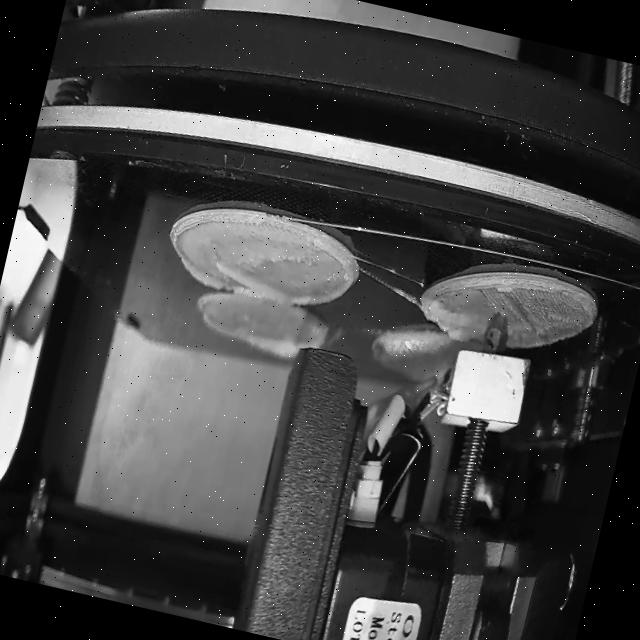over_extrusion: (177, 254, 291, 308), (292, 238, 359, 316), (424, 306, 484, 344), (247, 332, 300, 362)
